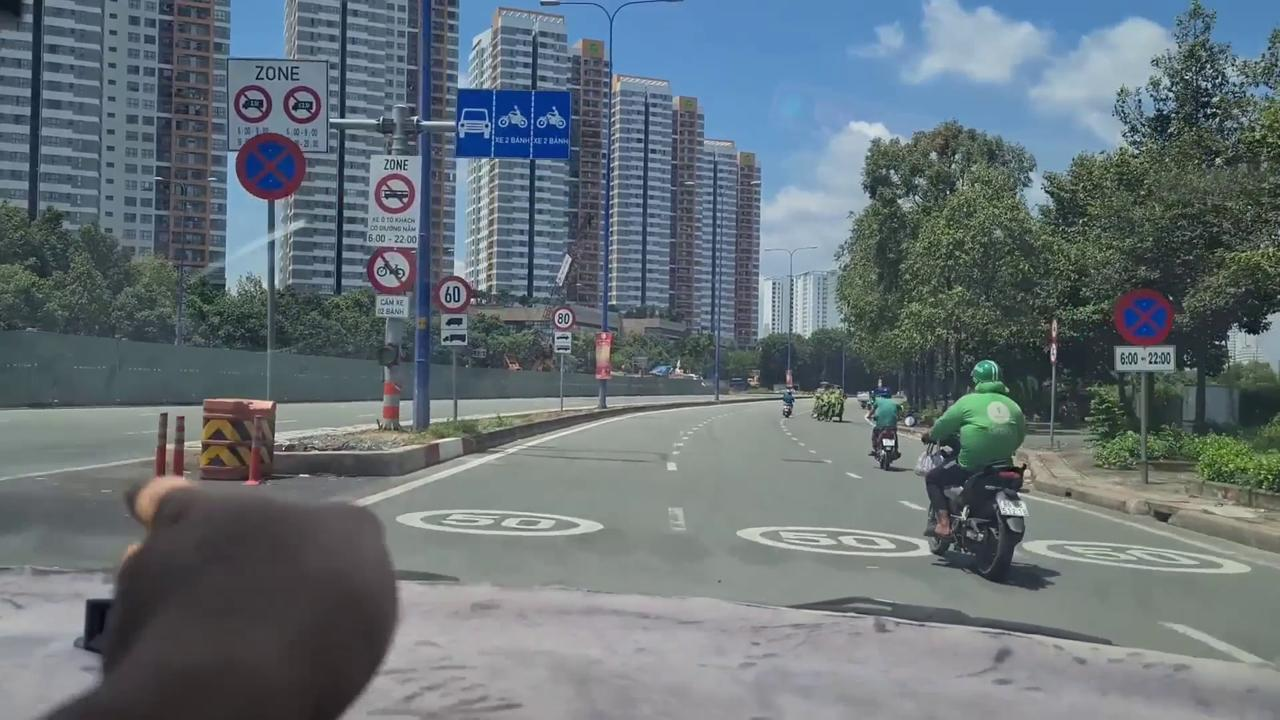Biển phụ: (1115, 345, 1177, 372), (439, 313, 469, 347), (375, 293, 410, 321), (553, 330, 572, 354)
Cấm cac phương tiện hoạt động trong khung giờ cố định: (224, 57, 330, 154), (365, 151, 422, 250)
Cấm dừng - Cấm đỗ: (234, 132, 308, 203), (1112, 286, 1176, 346)
Cấm xe máy: (366, 246, 419, 296)
GIơi hạn tốc độ 60Km/h: (434, 275, 474, 314)
Giới hạn tốc độ 80Km/h: (552, 306, 577, 332)
Làn đường cho từng xe: (455, 86, 572, 162)
